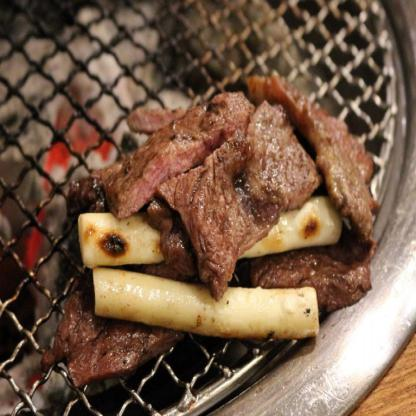Carne: (94, 92, 256, 225), (271, 89, 384, 201), (182, 160, 263, 275), (236, 112, 318, 214), (37, 330, 146, 384), (266, 254, 366, 294)
